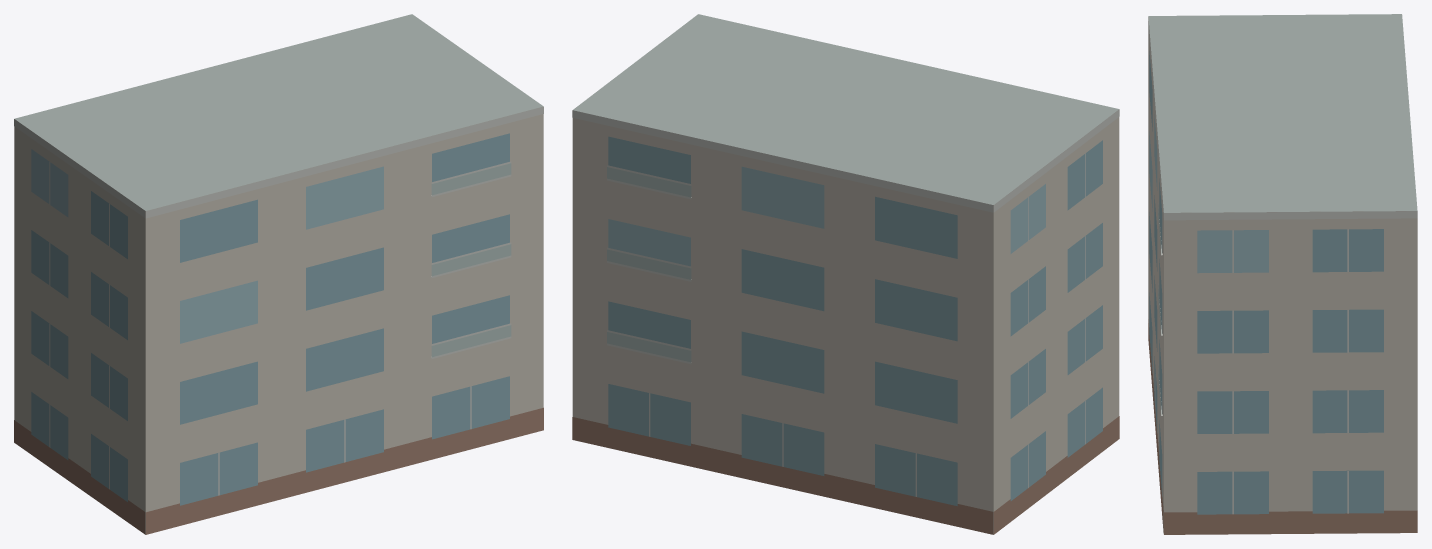
The model's file is survey-upis-32848626.glb.
3 views of the same model, side by side, from view 1: azimuth 30°, elevation 25°; view 2: azimuth 150°, elevation 25°; view 3: azimuth 270°, elevation 25° (orthographic). The views are drawn at different scales.
Parts seen in each view (by area): view 1: survey-upis-32848626.tmp; view 2: survey-upis-32848626.tmp; view 3: survey-upis-32848626.tmp.
Part boxes in pixels (x1=…): survey-upis-32848626.tmp: x1=14, y1=14, x2=543, y2=534; survey-upis-32848626.tmp: x1=572, y1=14, x2=1119, y2=534; survey-upis-32848626.tmp: x1=1148, y1=14, x2=1417, y2=534.
Bounding box in the file's own units: 14.05 × 10.6 × 8.04.
